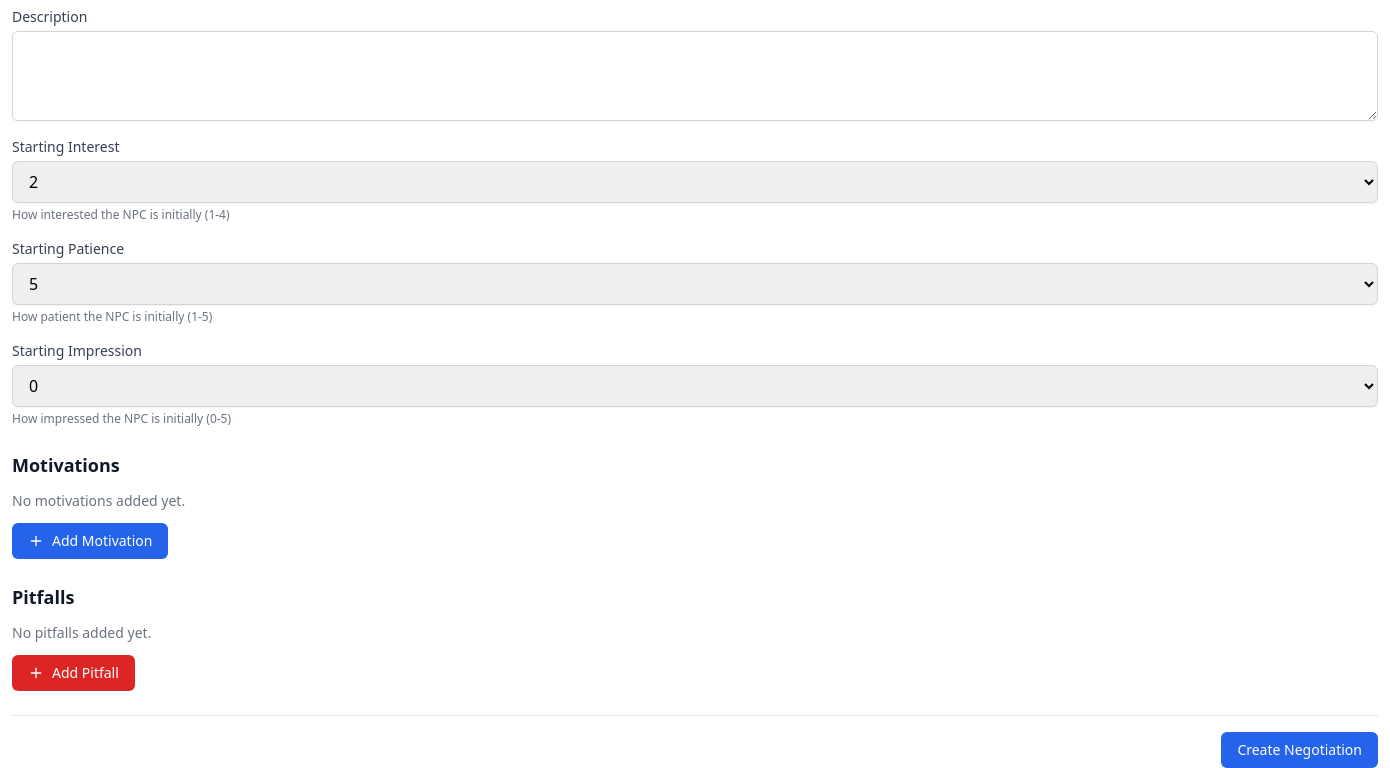
NegotiationSetup Component - Name Input › should show validation error when name is empty
(page scrolled)
Click the button "Create Negotiation" at (1300, 750), box [1221,732,1378,767]
(page scrolled)
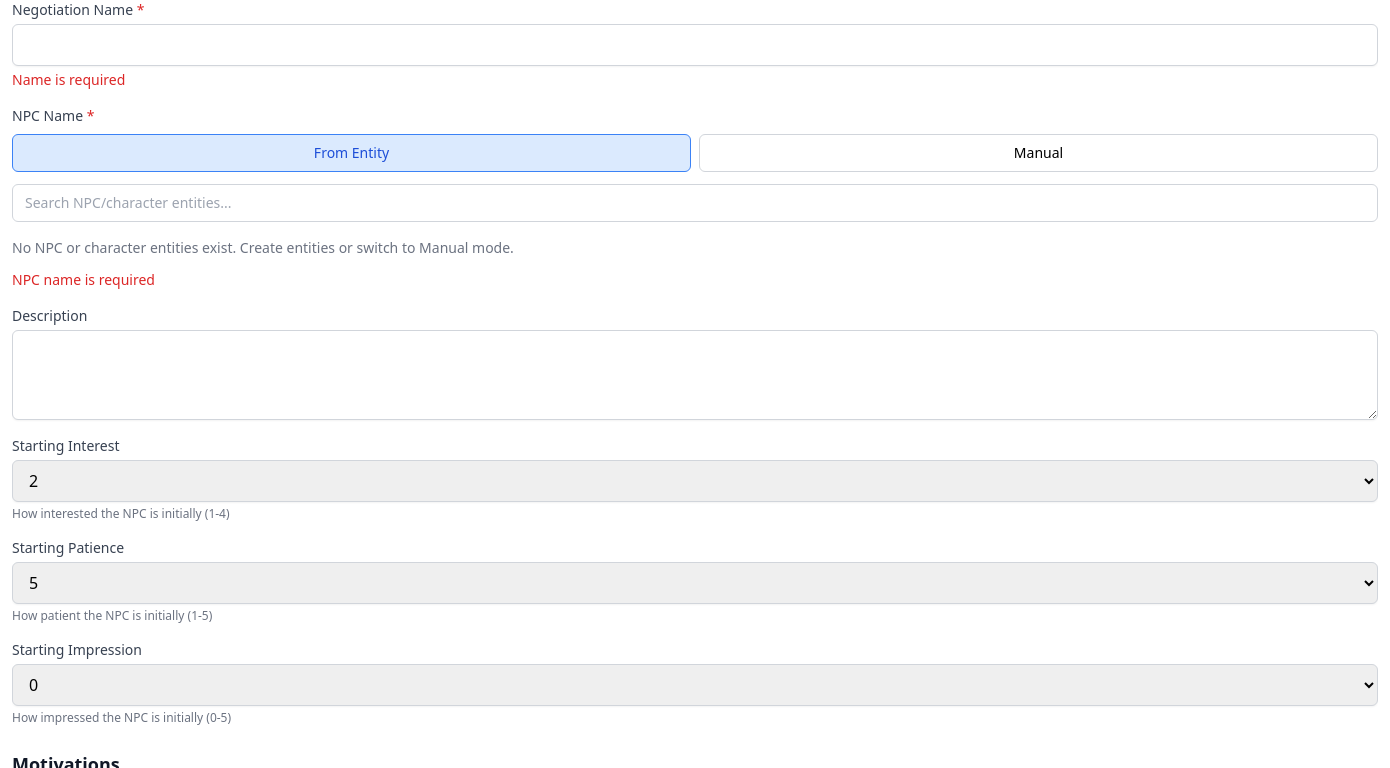
Result: the text "Name is required" is shown at [12,70,125,89]
